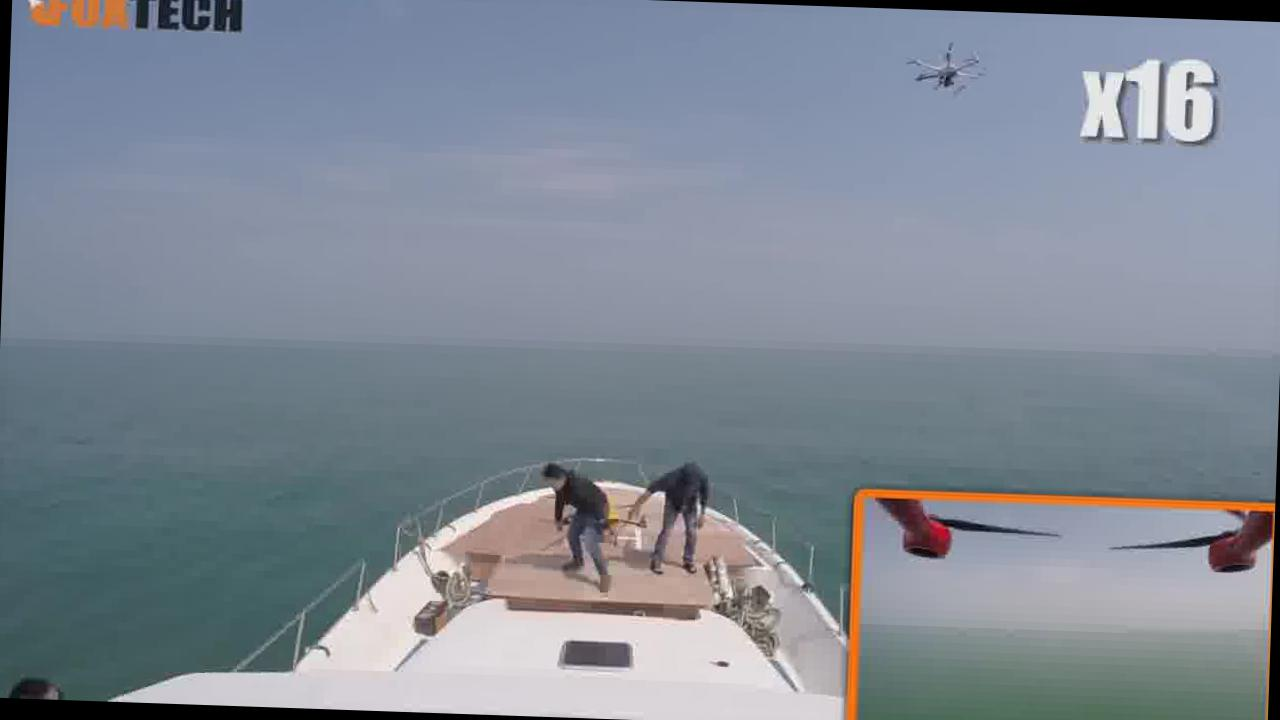drone: (906, 36, 986, 98)
